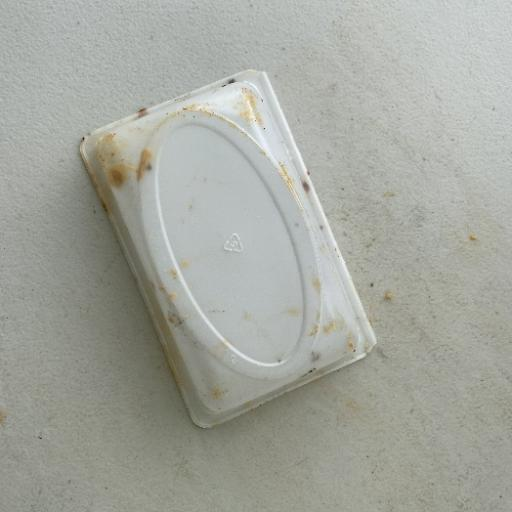Plastic: (77, 67, 378, 430)
